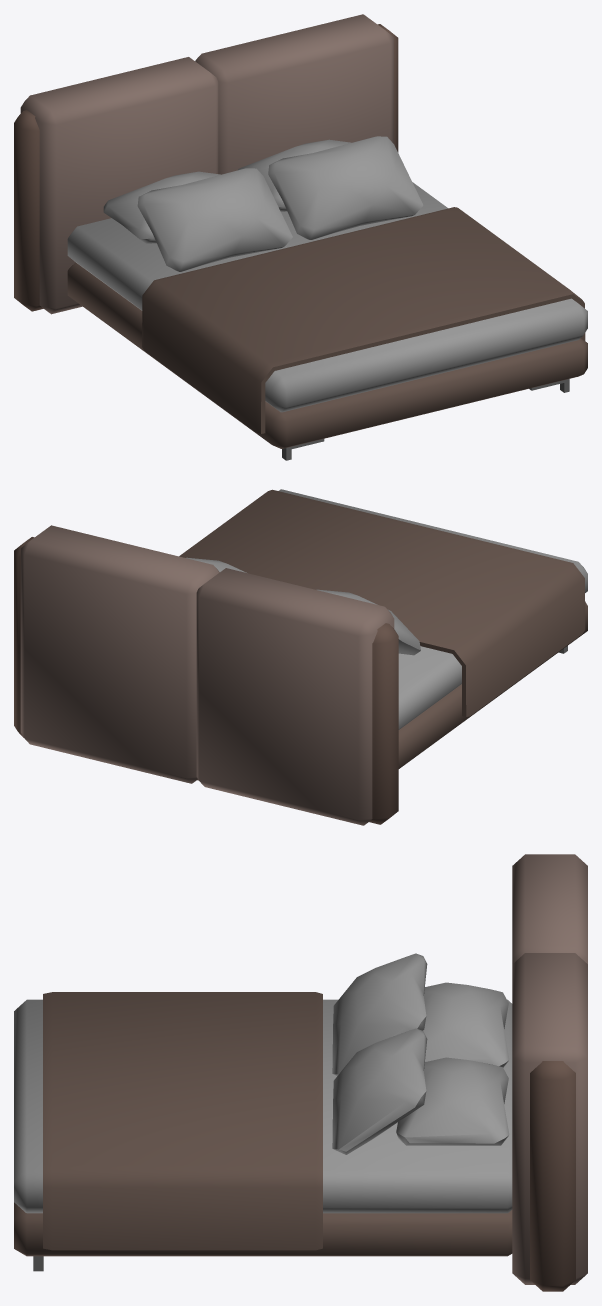
File: bed004.glb
The picture shows the model from 3 angles, top to bottom: view 1: azimuth 30°, elevation 25°; view 2: azimuth 150°, elevation 25°; view 3: azimuth 270°, elevation 25°; orthographic projection. The views are drawn at different scales.
Parts seen in each view (by area): view 1: bed.004; view 2: bed.004; view 3: bed.004.
Part boxes in pixels (<box>): bed.004: <box>14,14,587,460</box>; bed.004: <box>14,489,587,825</box>; bed.004: <box>14,854,587,1291</box>.
Size of the model in its own units: 2.14 by 1.11 by 2.4.
1 material, 1 textured.
